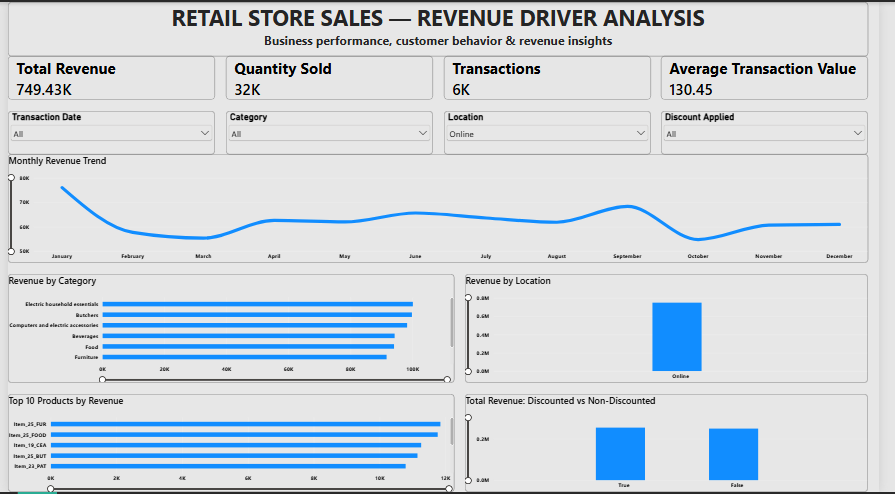

What the dashboard file says about the page in this screenshot:
{"tool":"powerbi","page":{"name":"Page 1","canvas":[1920,1080],"ordinal":0},"visuals":[{"type":"cardVisual","fields":{"Data":["retail_store_sales_clean.Total Revenue"]},"box":[0,120,456,96],"z":0},{"type":"cardVisual","fields":{"Data":["retail_store_sales_clean.Quantity Sold"]},"box":[480,120,456,96],"z":1000},{"type":"cardVisual","fields":{"Data":["retail_store_sales_clean.Transactions"]},"box":[960,120,456,96],"z":2000},{"type":"cardVisual","fields":{"Data":["retail_store_sales_clean.Average Transaction Value"]},"box":[1440,120,456,96],"z":3000},{"type":"lineChart","title":"Monthly Revenue Trend","fields":{"Category":["retail_store_sales_clean.Transaction Date.Variation.Date Hierarchy.Month"],"Y":["retail_store_sales_clean.Total Revenue"]},"box":[0,336,1896,240],"z":4000},{"type":"clusteredBarChart","title":"Revenue by Category","fields":{"Category":["retail_store_sales_clean.Category"],"Y":["retail_store_sales_clean.Total Revenue"]},"box":[0,600,984,240],"z":5000},{"type":"clusteredColumnChart","title":"Revenue by Location","fields":{"Category":["retail_store_sales_clean.Location"],"Y":["retail_store_sales_clean.Total Revenue"]},"box":[1008,600,888,240],"z":6000},{"type":"clusteredBarChart","title":"Top 10 Products by Revenue","fields":{"Category":["retail_store_sales_clean.Item"],"Y":["retail_store_sales_clean.Total Revenue"]},"box":[0,864,984,216],"z":7000},{"type":"clusteredColumnChart","title":"Total Revenue: Discounted vs Non-Discounted","fields":{"Category":["retail_store_sales_clean.Discount Applied"],"Y":["retail_store_sales_clean.Total Revenue"]},"box":[1008,864,888,216],"z":7001},{"type":"slicer","fields":{"Values":["retail_store_sales_clean.Category"]},"box":[480,240,456,96],"z":7002},{"type":"slicer","fields":{"Values":["retail_store_sales_clean.Transaction Date"]},"box":[0,240,456,96],"z":7003},{"type":"slicer","fields":{"Values":["retail_store_sales_clean.Location"]},"box":[960,240,456,96],"z":7004},{"type":"slicer","fields":{"Values":["retail_store_sales_clean.Discount Applied"]},"box":[1440,240,456,96],"z":7005},{"type":"textbox","box":[0,0,1896,120],"z":7006}]}

Visuals, with their boxes in screenshot pixels (x1, y1, x2, y2), scaled from the page's 1920x1080 canvas onto the 895x494 screenshot:
cardVisual - retail_store_sales_clean.Total Revenue: bbox=(0, 55, 213, 99)
cardVisual - retail_store_sales_clean.Quantity Sold: bbox=(224, 55, 436, 99)
cardVisual - retail_store_sales_clean.Transactions: bbox=(448, 55, 660, 99)
cardVisual - retail_store_sales_clean.Average Transaction Value: bbox=(671, 55, 884, 99)
"Monthly Revenue Trend" lineChart: bbox=(0, 154, 884, 263)
"Revenue by Category" clusteredBarChart: bbox=(0, 274, 459, 384)
"Revenue by Location" clusteredColumnChart: bbox=(470, 274, 884, 384)
"Top 10 Products by Revenue" clusteredBarChart: bbox=(0, 395, 459, 493)
"Total Revenue: Discounted vs Non-Discounted" clusteredColumnChart: bbox=(470, 395, 884, 493)
slicer - retail_store_sales_clean.Category: bbox=(224, 110, 436, 154)
slicer - retail_store_sales_clean.Transaction Date: bbox=(0, 110, 213, 154)
slicer - retail_store_sales_clean.Location: bbox=(448, 110, 660, 154)
slicer - retail_store_sales_clean.Discount Applied: bbox=(671, 110, 884, 154)
textbox: bbox=(0, 0, 884, 55)
